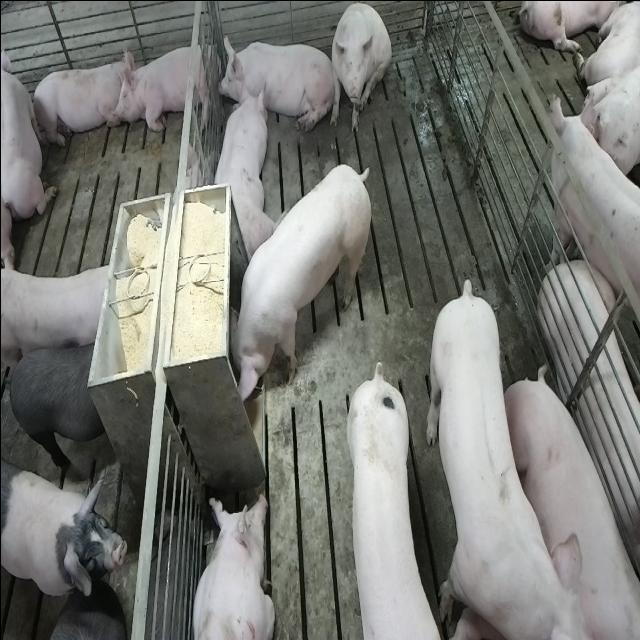Feeding: (229, 162, 376, 404)
Lateral_lying: (500, 370, 640, 640), (538, 260, 640, 596)
Sitting: (328, 2, 390, 134)
Standing: (428, 278, 590, 638), (344, 368, 438, 640), (550, 98, 640, 332), (3, 466, 128, 600), (4, 339, 112, 480), (2, 257, 118, 368), (35, 609, 127, 640)
Sternal_lying: (190, 487, 274, 640), (209, 82, 270, 262), (219, 32, 329, 131), (2, 32, 56, 222), (29, 51, 129, 149), (116, 37, 214, 135)
